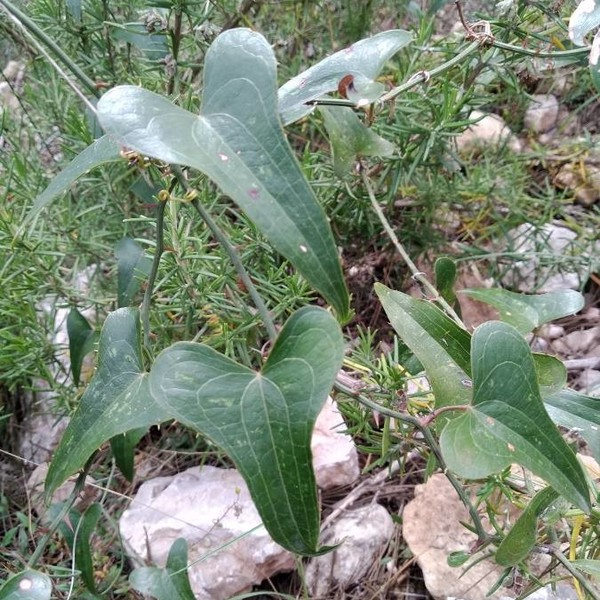obstacle: (58, 36, 438, 303), (59, 305, 398, 531), (360, 261, 572, 518)
